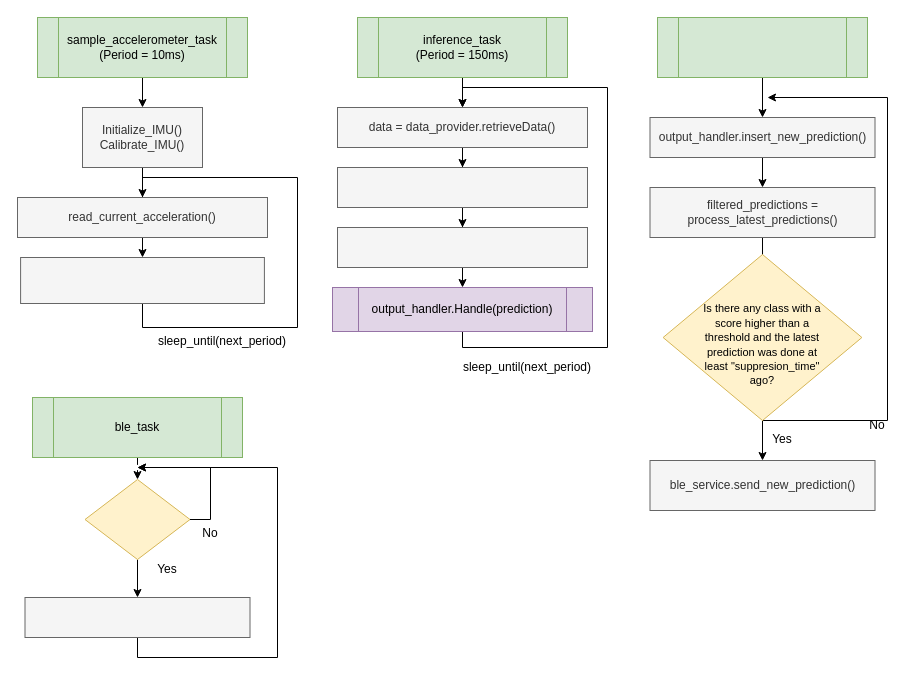
This 915x683 diagram has some shape labels left out. Each missing label, with the box of its shape:
ble.send_data(new_prediction): (24, 596, 250, 638)
data_provider.pushData(new_acc_data): (20, 256, 264, 304)
New prediction?: (84, 478, 190, 560)
output_handler.Handle: (656, 16, 868, 78)
prediction = run_inference(prep_data): (336, 226, 588, 268)
prep_data = preprocess(data): (336, 166, 588, 208)
